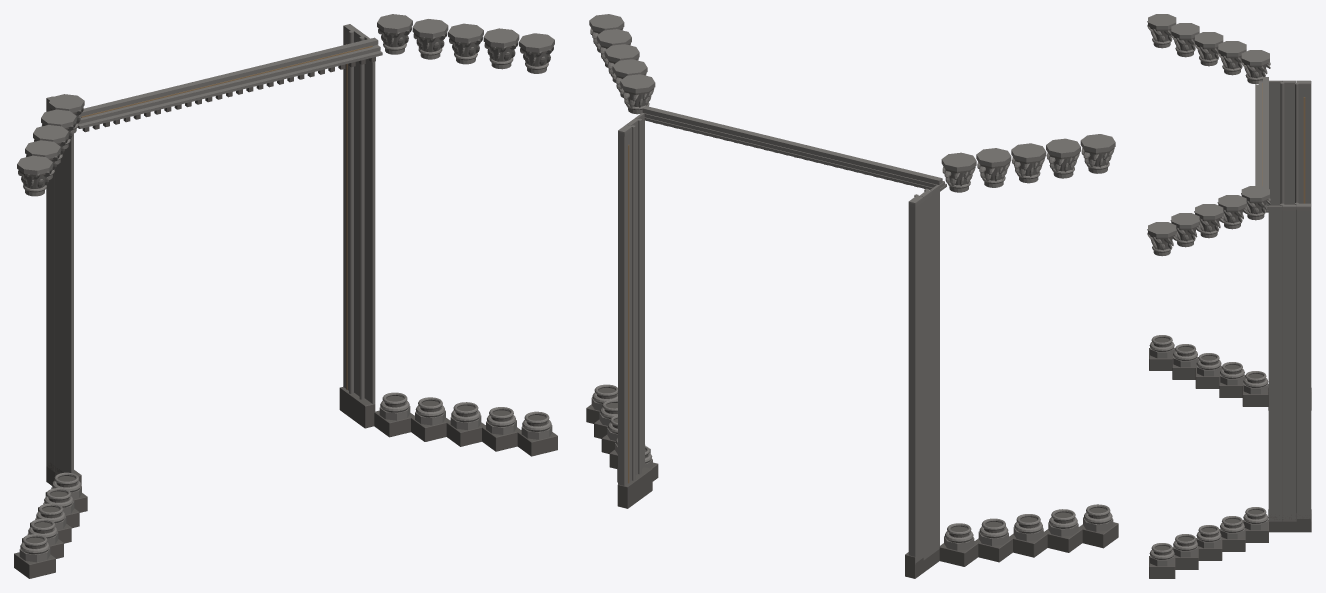
Rendered from portico.glb.
The picture shows the model from 3 angles, left to right: view 1: azimuth 30°, elevation 25°; view 2: azimuth 150°, elevation 25°; view 3: azimuth 270°, elevation 25°; orthographic projection. The views are drawn at different scales.
Parts seen in each view (by area): view 1: m7_portico; view 2: m7_portico; view 3: m7_portico.
Boxes of the visible parts, box(x1,y1,x2,y2) form: m7_portico: box(14, 14, 557, 578); m7_portico: box(586, 14, 1118, 578); m7_portico: box(1147, 14, 1311, 578).
Bounding box in the file's own units: 12.23 × 8.96 × 3.86.
